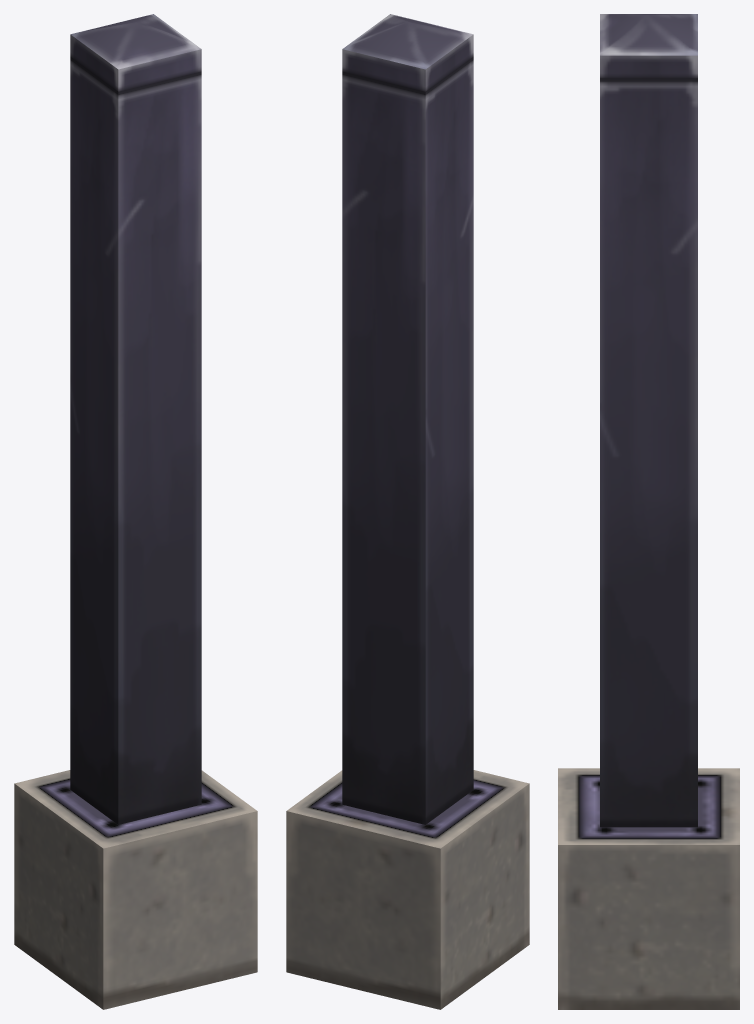
The model's file is ARC0110009.fbx.
The picture shows the model from 3 angles, left to right: view 1: azimuth 30°, elevation 25°; view 2: azimuth 150°, elevation 25°; view 3: azimuth 270°, elevation 25°; orthographic projection. The views are drawn at different scales.
Parts seen in each view (by area): view 1: smARC0110009; view 2: smARC0110009; view 3: smARC0110009.
Boxes of the visible parts, left/top/right/bottom form: smARC0110009: left=14, top=14, right=257, bottom=1009; smARC0110009: left=286, top=14, right=529, bottom=1009; smARC0110009: left=558, top=14, right=739, bottom=1009.
Size of the model in its own units: 22.03 by 128 by 22.03.
Materials: 1 (1 with a texture image).
